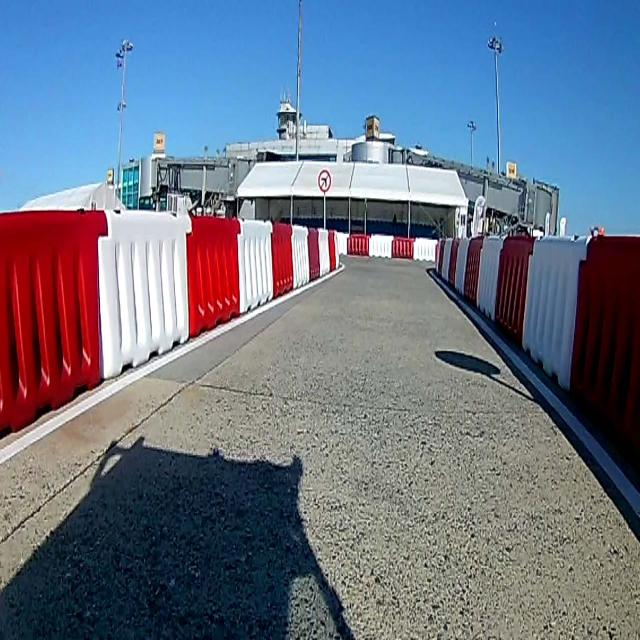soladonulmez: (318, 170, 331, 193)
